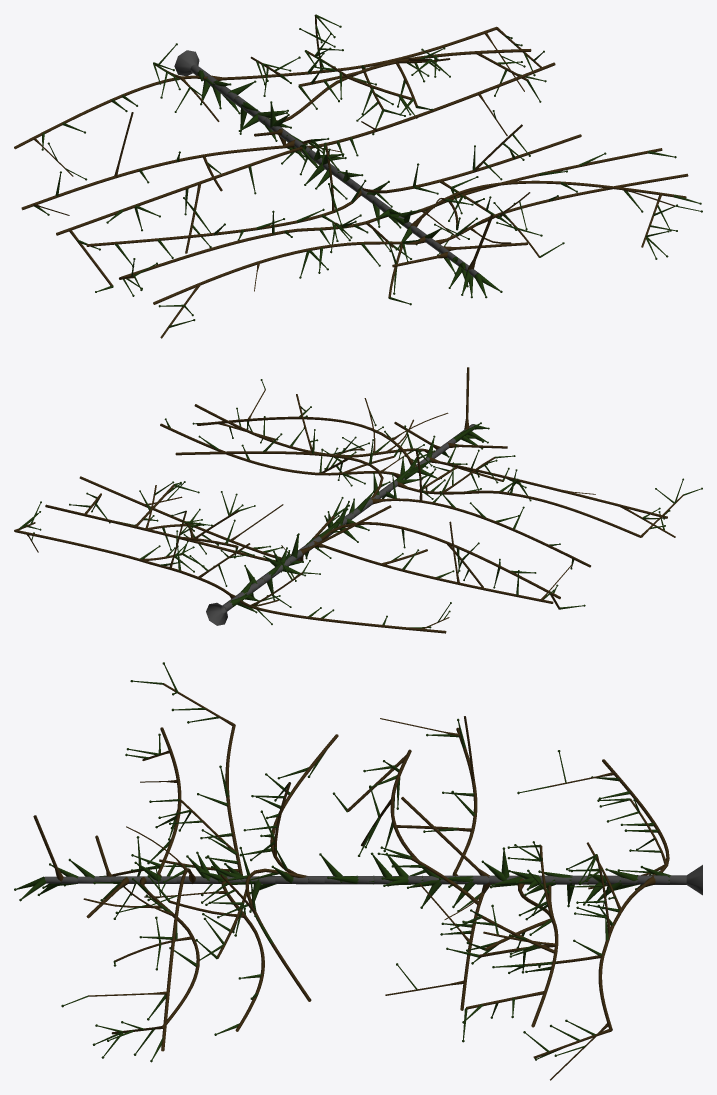
Rendered from tree_8.obj.
3 renders of one model, top to bottom at view 1: azimuth 30°, elevation 25°; view 2: azimuth 150°, elevation 25°; view 3: azimuth 270°, elevation 25°, orthographic. The views are drawn at different scales.
Bounding box in the file's own units: 4.62 × 0.9215 × 4.19.
